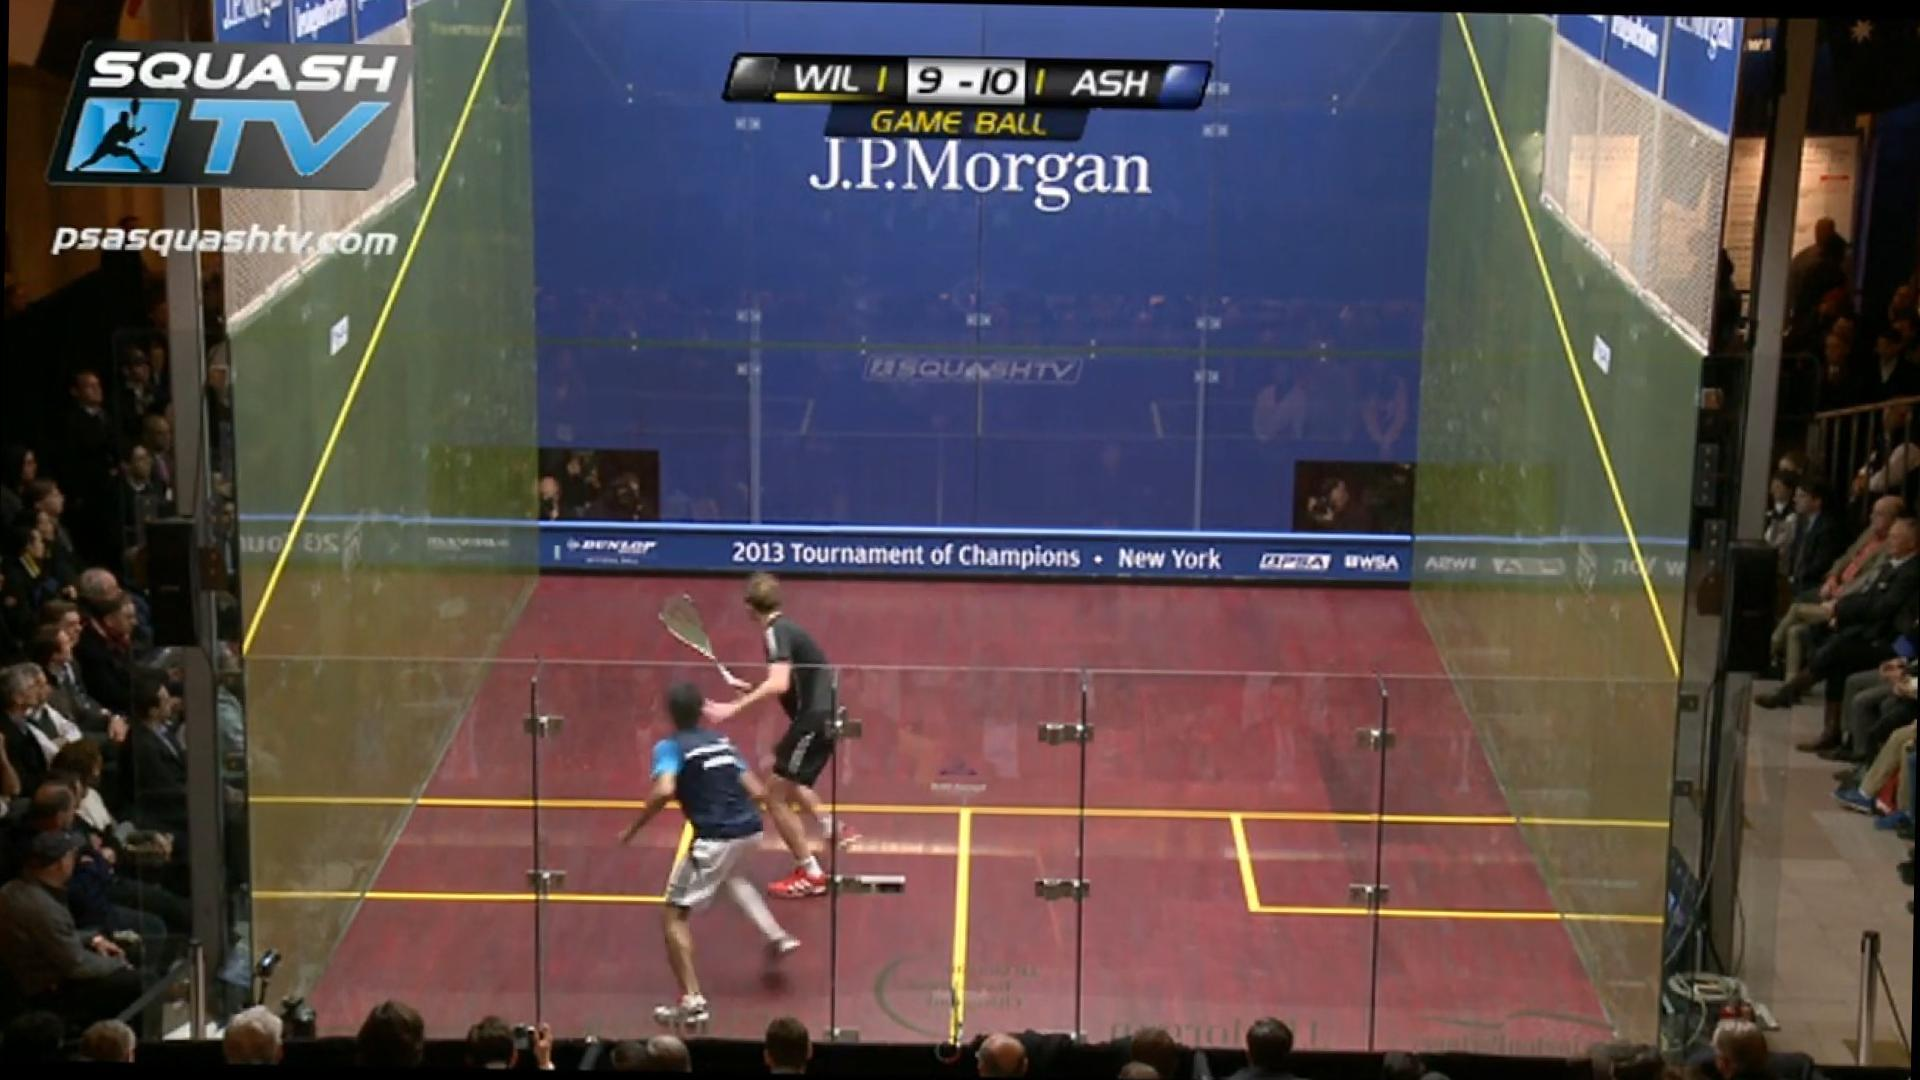Squash-Ball: (551, 534, 570, 560)
